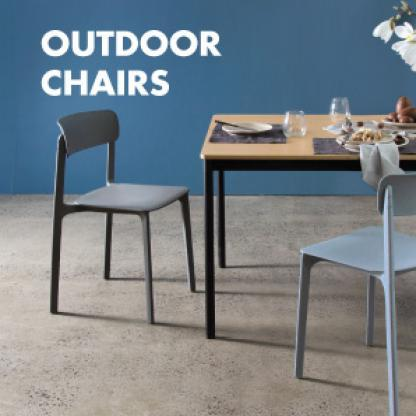chair: (32, 99, 196, 328), (284, 179, 416, 416)
table: (200, 105, 416, 343)
